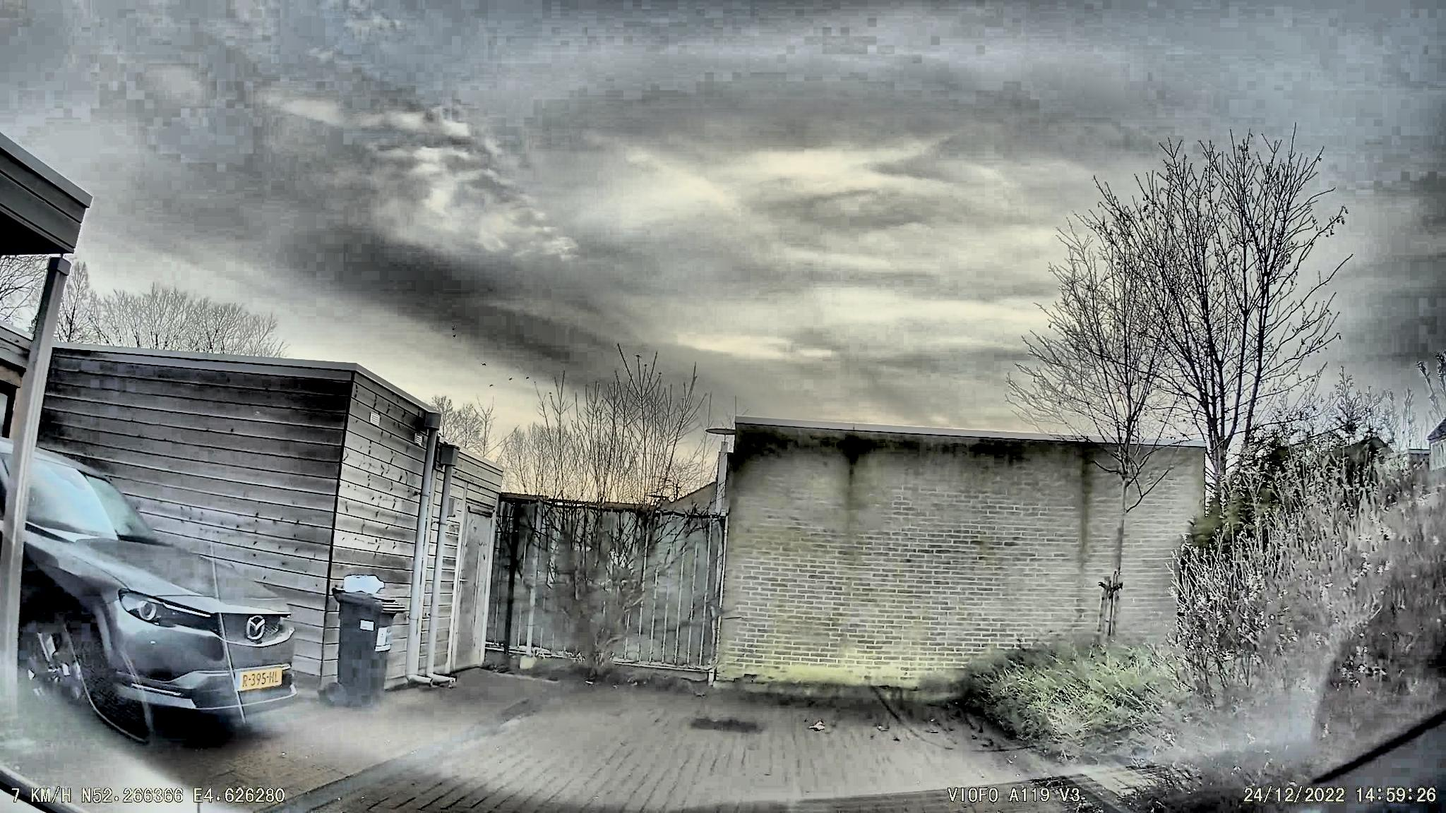Roads: (263, 687, 1093, 813)
